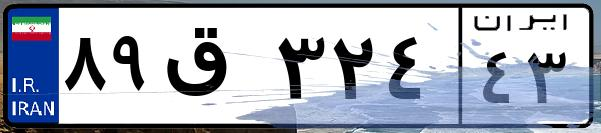2: (330, 28, 385, 110)
3: (270, 28, 330, 110), (525, 38, 570, 115)
4: (385, 28, 445, 110), (475, 38, 525, 113)
8: (57, 26, 110, 100)
9: (110, 28, 158, 98)
ق: (158, 20, 270, 120)
